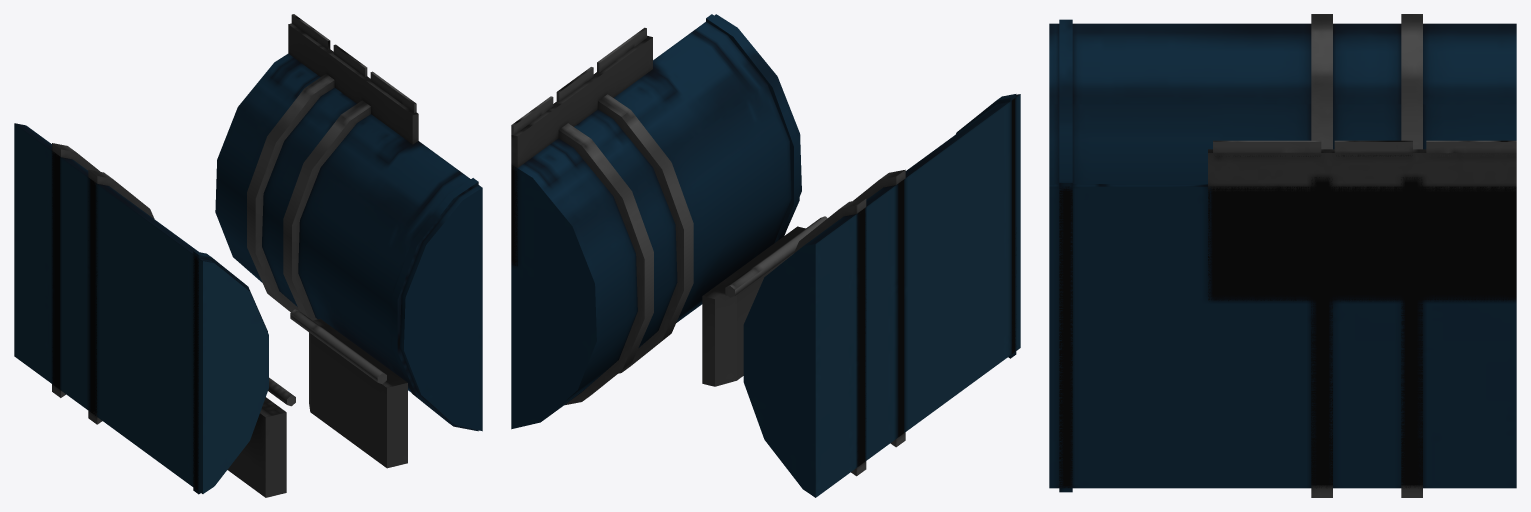
File: newshb-43.glb
3 renders of one model, left to right at view 1: azimuth 30°, elevation 25°; view 2: azimuth 150°, elevation 25°; view 3: azimuth 270°, elevation 25°, orthographic. The views are drawn at different scales.
Parts seen in each view (by area): view 1: newshb-43; view 2: newshb-43; view 3: newshb-43.
Boxes of the visible parts, <box> form: newshb-43: <box>14,14,482,497</box>; newshb-43: <box>511,14,1020,497</box>; newshb-43: <box>1049,14,1516,497</box>.
Bounding box in the file's own units: 2 × 2 × 2.33.
Materials: 4 (4 with a texture image).
